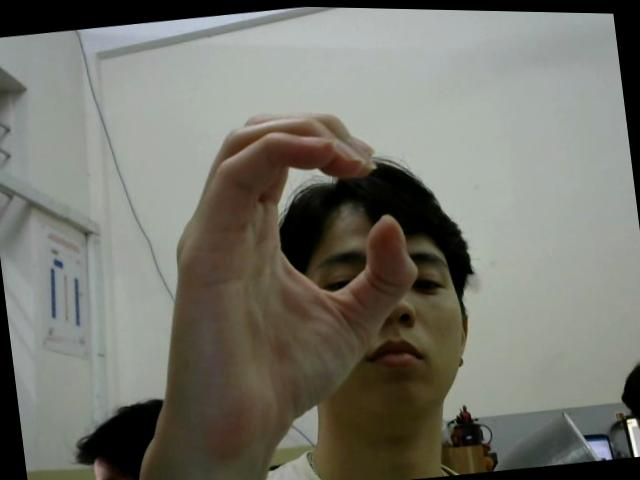C: (152, 93, 436, 448)
